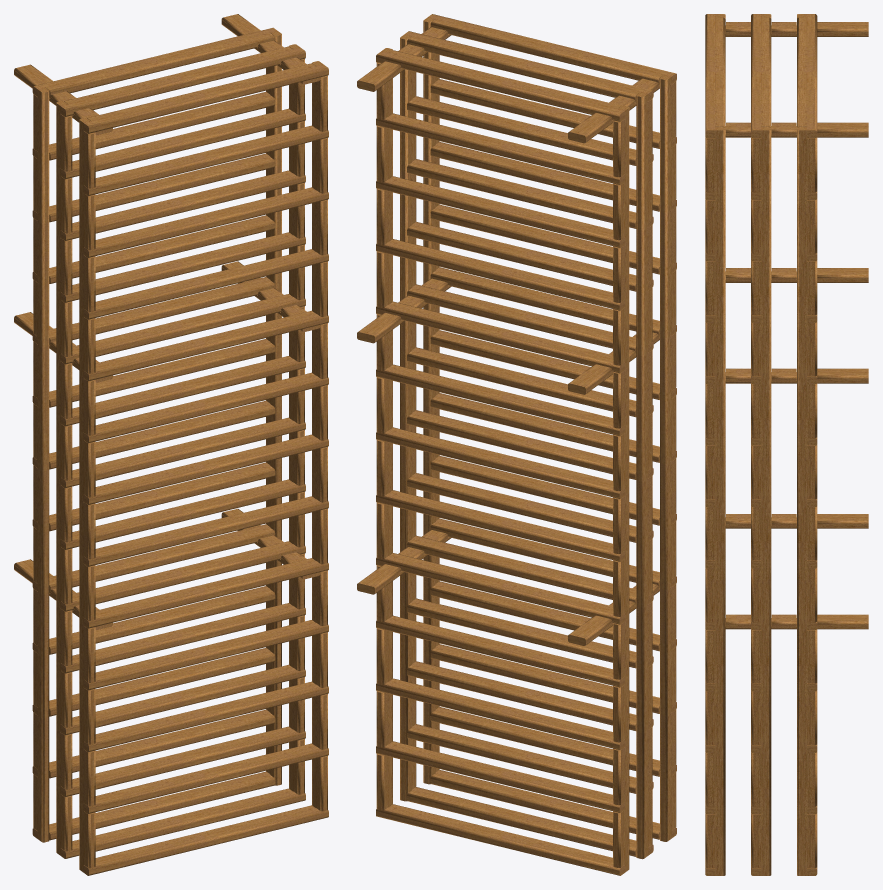
The model's file is VCKB0070.glb.
3 views of the same model, side by side, from view 1: azimuth 30°, elevation 25°; view 2: azimuth 150°, elevation 25°; view 3: azimuth 270°, elevation 25° (orthographic). The views are drawn at different scales.
Visible parts, largest first — view 1: G-Difference.019; view 2: G-Difference.019; view 3: G-Difference.019.
Part boxes in pixels (left/top/right/bottom): G-Difference.019: left=14, top=14, right=328, bottom=875; G-Difference.019: left=357, top=14, right=676, bottom=875; G-Difference.019: left=705, top=14, right=868, bottom=875.
Bounding box in the file's own units: 0.406 × 1.21 × 0.241.
Materials: 2 (2 with a texture image).
